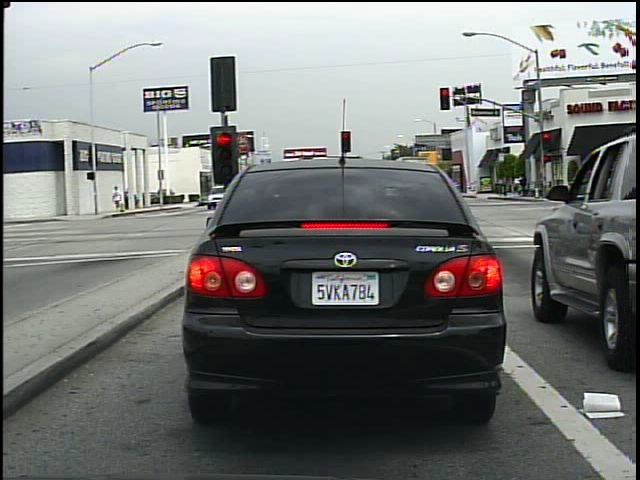person: (113, 185, 127, 216), (516, 171, 530, 196)
